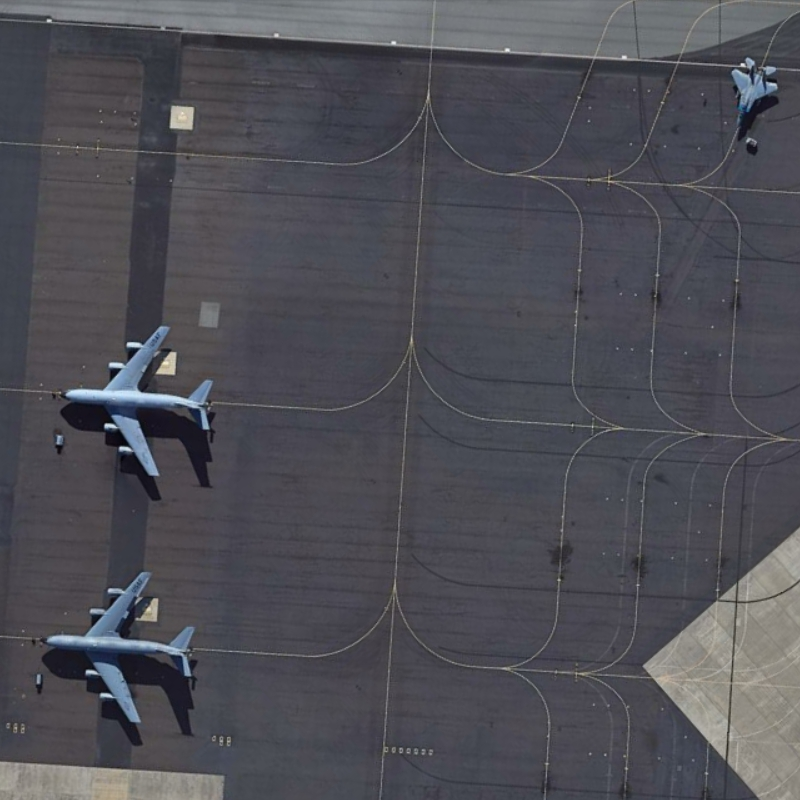A13: (728, 54, 783, 129)
A14: (52, 322, 217, 482), (31, 569, 198, 726)
